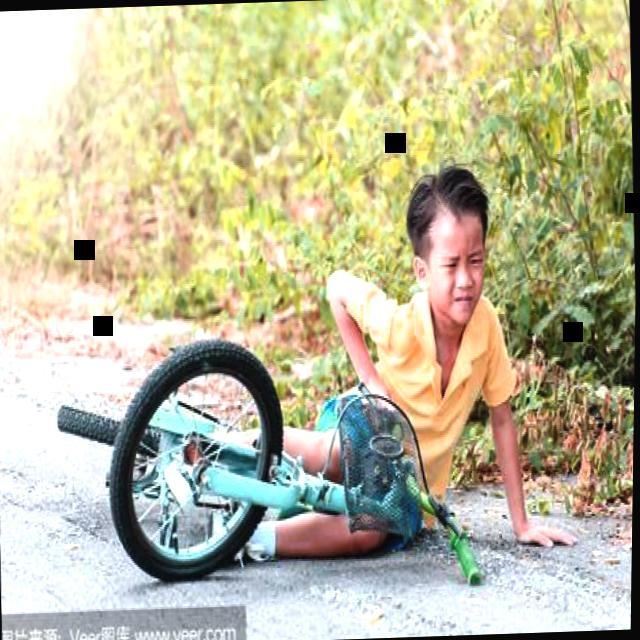Fall-Detected: (178, 142, 590, 580)
